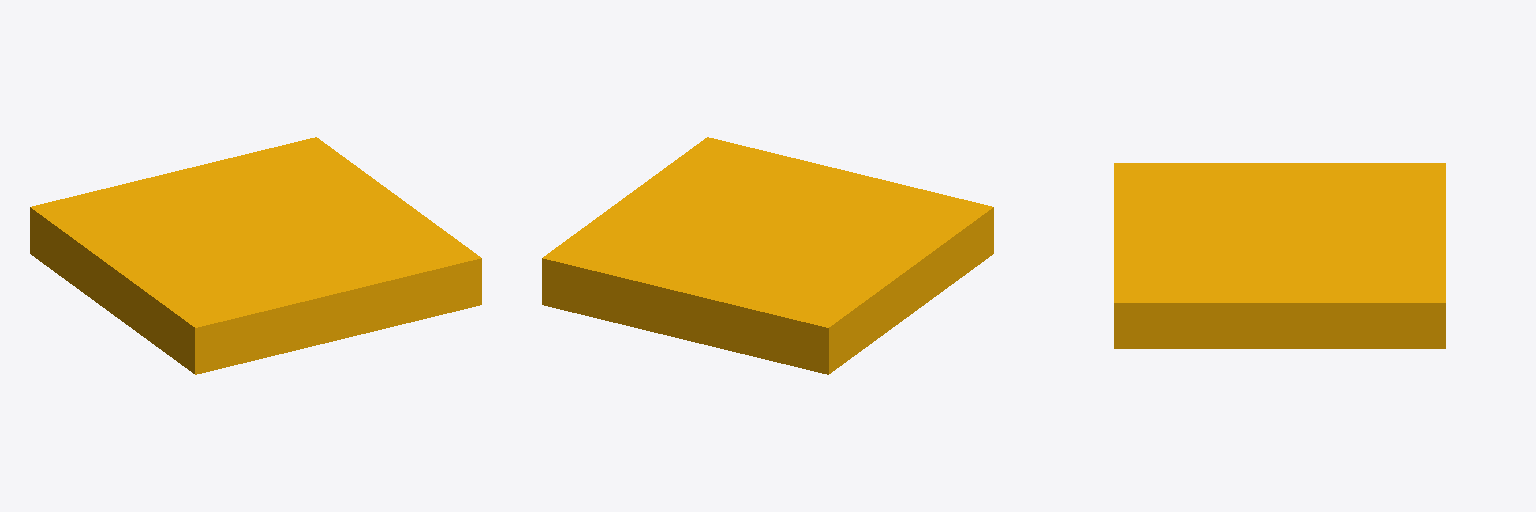
File: barrier_hole_small.obj
3 views of the same model, side by side, from view 1: azimuth 30°, elevation 25°; view 2: azimuth 150°, elevation 25°; view 3: azimuth 270°, elevation 25° (orthographic).
Parts seen in each view (by area): view 1: small_frame_geo_sml; view 2: small_frame_geo_sml; view 3: small_frame_geo_sml.
Boxes of the visible parts, box(x1,y1,x2,y2) form: small_frame_geo_sml: box(30, 137, 481, 374); small_frame_geo_sml: box(542, 137, 993, 374); small_frame_geo_sml: box(1114, 163, 1445, 348).
Size of the model in its own units: 0.5 by 0.0781 by 0.5.